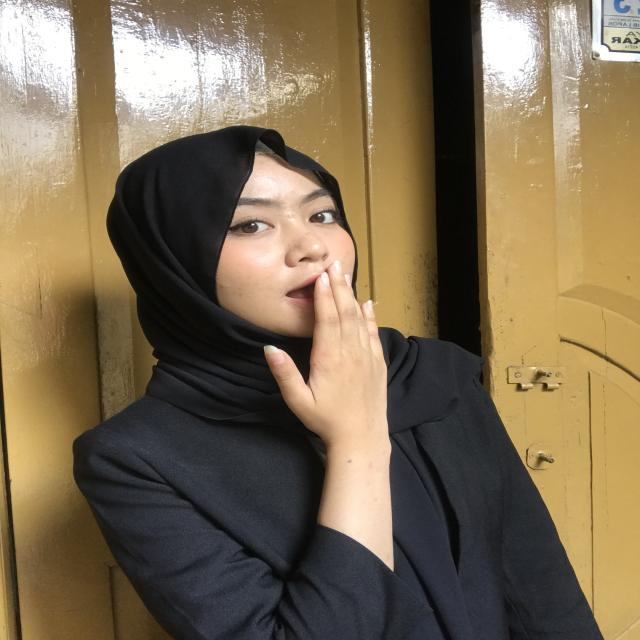ngantuk: (251, 263, 406, 475)
